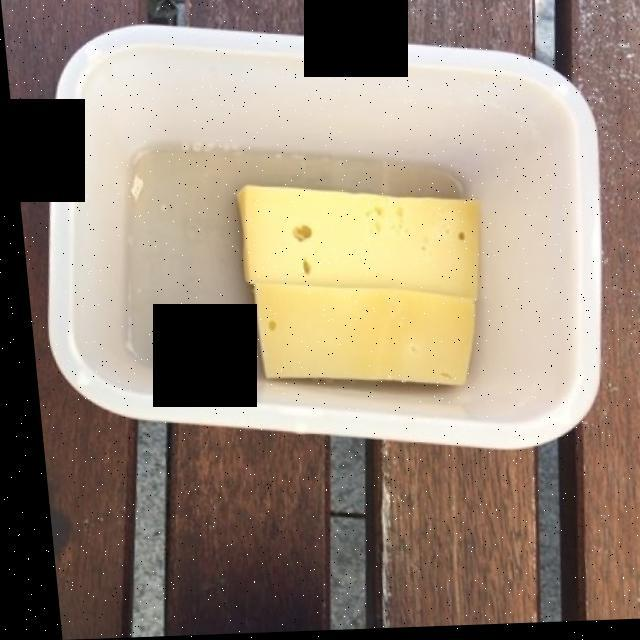cheese: (231, 189, 470, 391)
